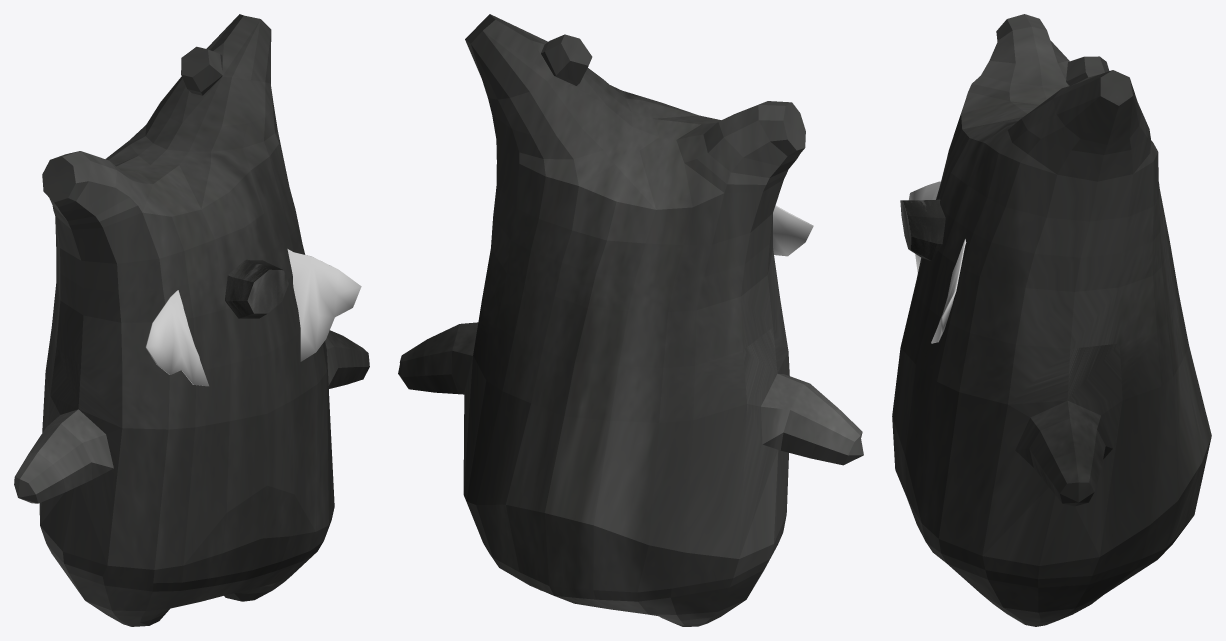
The model's file is frame_0054.obj.
The picture shows the model from 3 angles, left to right: view 1: azimuth 30°, elevation 25°; view 2: azimuth 150°, elevation 25°; view 3: azimuth 270°, elevation 25°; orthographic projection. The views are drawn at different scales.
Parts seen in each view (by area): view 1: korok, leaf, nose; view 2: korok, leaf; view 3: korok, nose, leaf.
Part boxes in pixels (bbox=[...]): korok: bbox=[14, 14, 369, 626]; leaf: bbox=[145, 249, 361, 386]; nose: bbox=[225, 259, 288, 318]; korok: bbox=[398, 14, 863, 626]; leaf: bbox=[773, 205, 813, 256]; korok: bbox=[892, 14, 1211, 626]; nose: bbox=[900, 199, 945, 260]; leaf: bbox=[909, 181, 966, 343].
Size of the model in its own units: 1.7 by 2.3 by 1.16.
